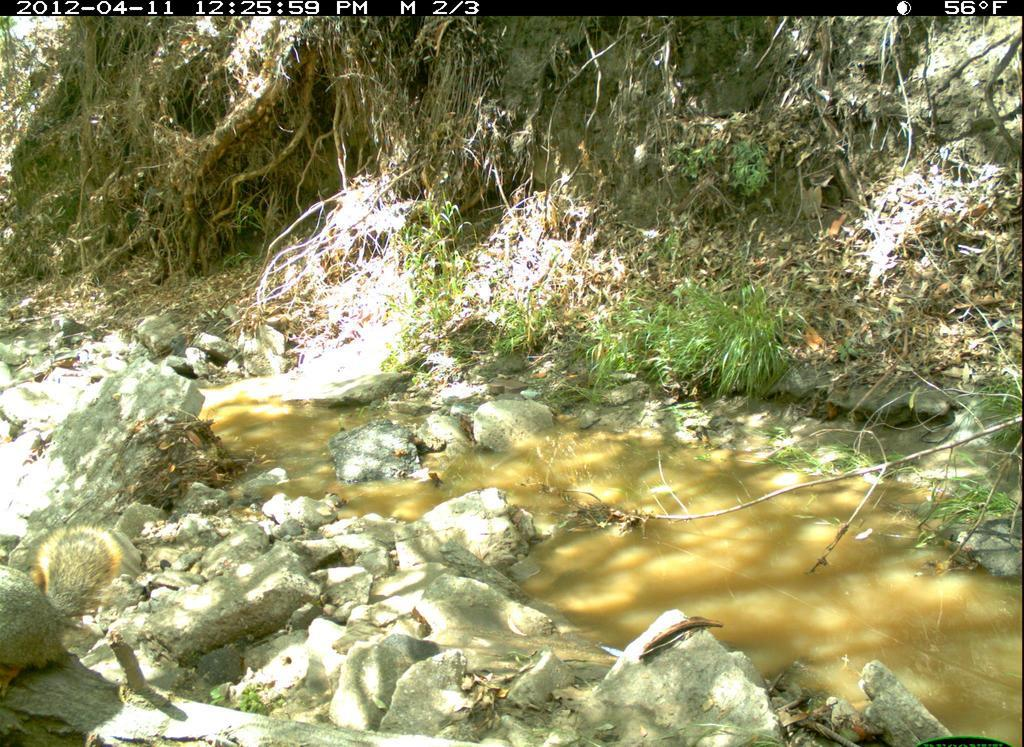squirrel: (1, 511, 123, 699)
